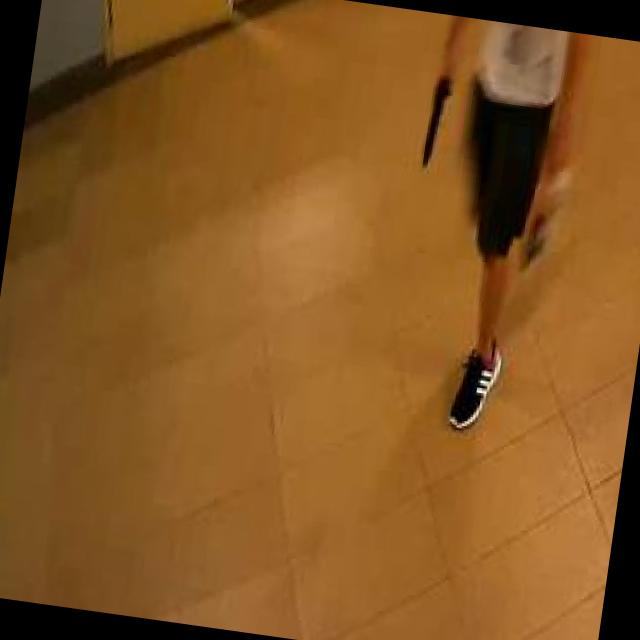Guns: (398, 43, 468, 190)
